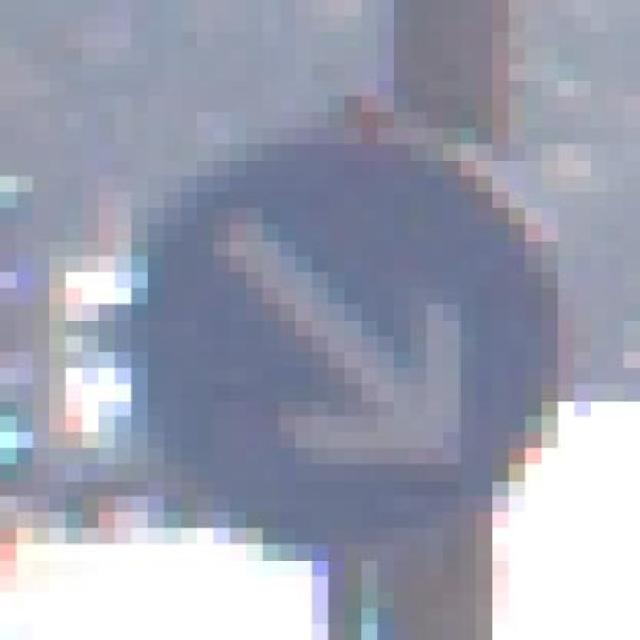Keep-Right: (115, 96, 574, 529)
